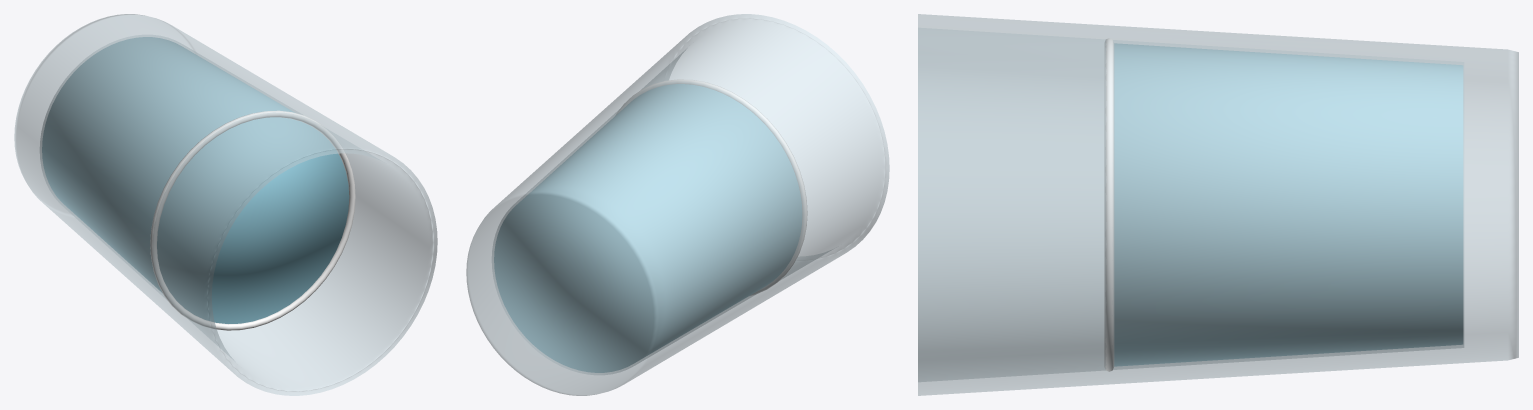
File: glass.obj
The picture shows the model from 3 angles, left to right: view 1: azimuth 30°, elevation 25°; view 2: azimuth 150°, elevation 25°; view 3: azimuth 270°, elevation 25°; orthographic projection. The views are drawn at different scales.
Parts seen in each view (by area): view 1: glass_0_0, glass_1_455, glass_2_715; view 2: glass_0_0, glass_1_455, glass_2_715; view 3: glass_0_0, glass_1_455, glass_2_715.
Boxes of the visible parts, box(x1,y1,x2,y2) form: glass_0_0: box(14, 14, 437, 395); glass_1_455: box(42, 37, 349, 323); glass_2_715: box(150, 110, 355, 330); glass_0_0: box(466, 14, 889, 395); glass_1_455: box(494, 84, 801, 372); glass_2_715: box(616, 79, 807, 295); glass_0_0: box(918, 14, 1518, 395); glass_1_455: box(1114, 43, 1462, 366); glass_2_715: box(1104, 38, 1113, 371).
Size of the model in its own units: 0.07 by 0.07 by 0.11.
